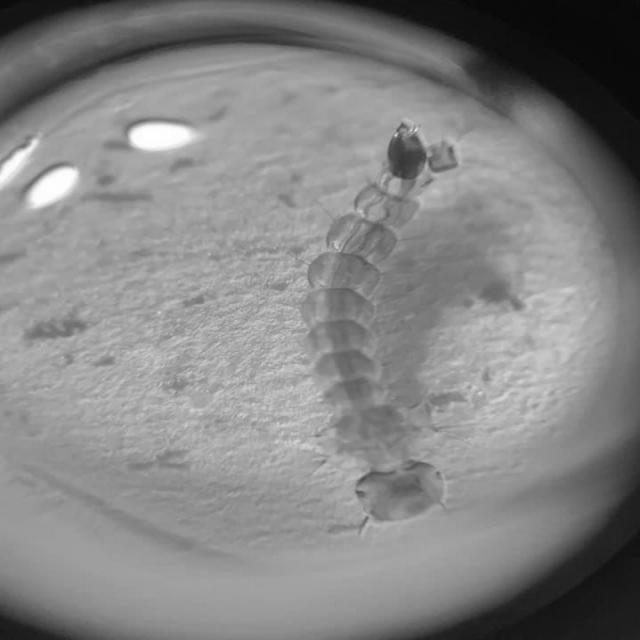larvas: (305, 123, 450, 527)
